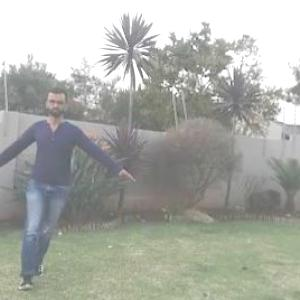land: (0, 90, 136, 263)
